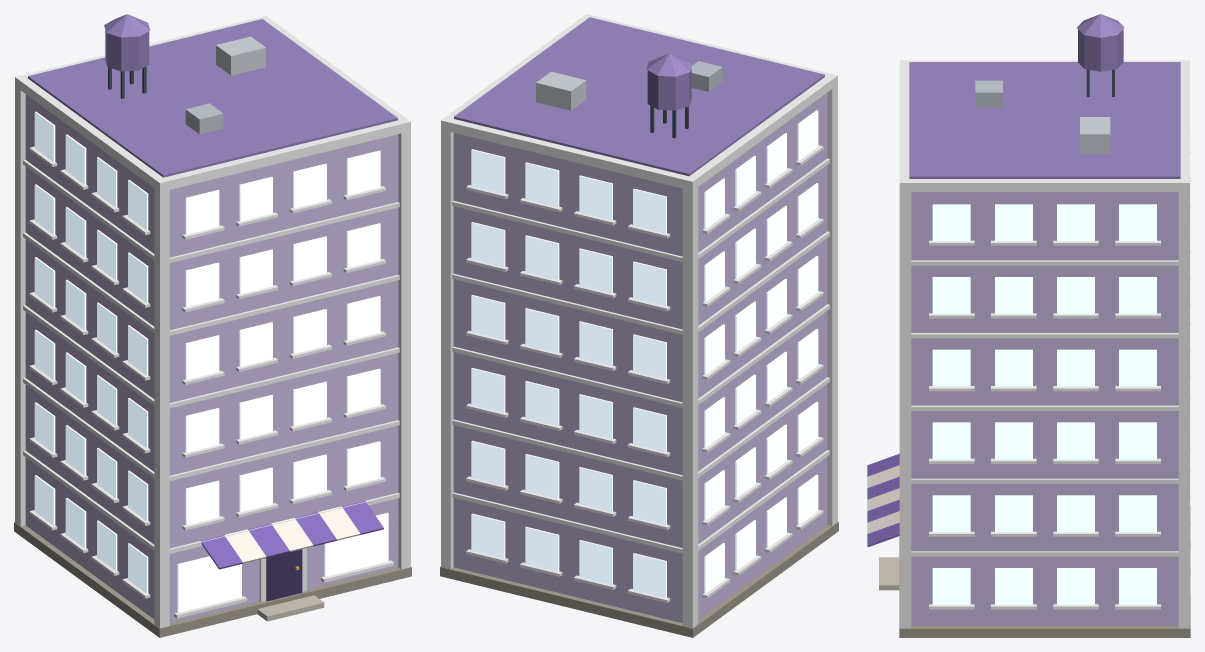
File: hotel-mirador.glb
3 views of the same model, side by side, from view 1: azimuth 30°, elevation 25°; view 2: azimuth 150°, elevation 25°; view 3: azimuth 270°, elevation 25° (orthographic).
Parts seen in each view (by area): view 1: hotel-mirador_1, hotel-mirador_3, hotel-mirador_2, hotel-mirador_9, hotel-mirador_0, hotel-mirador_7, hotel-mirador_8, hotel-mirador_4, hotel-mirador_10, hotel-mirador_6, hotel-mirador_11; view 2: hotel-mirador_1, hotel-mirador_3, hotel-mirador_2, hotel-mirador_9, hotel-mirador_0, hotel-mirador_10, hotel-mirador_11; view 3: hotel-mirador_1, hotel-mirador_3, hotel-mirador_2, hotel-mirador_9, hotel-mirador_0, hotel-mirador_7, hotel-mirador_8, hotel-mirador_10, hotel-mirador_11, hotel-mirador_6.
Part boxes in pixels (x1,y1,x2,y2): hotel-mirador_1: (25, 94, 398, 622); hotel-mirador_3: (34, 111, 388, 612); hotel-mirador_2: (15, 16, 410, 628); hotel-mirador_9: (28, 14, 397, 177); hotel-mirador_0: (14, 522, 411, 637); hotel-mirador_7: (201, 500, 383, 569); hotel-mirador_8: (224, 506, 360, 563); hotel-mirador_4: (266, 549, 302, 601); hotel-mirador_10: (216, 36, 265, 75); hotel-mirador_6: (257, 595, 324, 621); hotel-mirador_11: (185, 103, 223, 134); hotel-mirador_1: (453, 93, 827, 622); hotel-mirador_3: (471, 110, 818, 597); hotel-mirador_2: (441, 14, 837, 628); hotel-mirador_9: (454, 17, 824, 176); hotel-mirador_0: (440, 521, 838, 637); hotel-mirador_10: (536, 71, 586, 110); hotel-mirador_11: (691, 61, 722, 91); hotel-mirador_1: (911, 192, 1178, 625); hotel-mirador_3: (932, 204, 1156, 604); hotel-mirador_2: (899, 60, 1190, 628); hotel-mirador_9: (909, 14, 1180, 178); hotel-mirador_0: (899, 506, 1190, 637); hotel-mirador_7: (867, 453, 899, 547); hotel-mirador_8: (867, 465, 899, 533); hotel-mirador_10: (1080, 117, 1110, 153); hotel-mirador_11: (975, 80, 1002, 107); hotel-mirador_6: (879, 557, 899, 590).
Bounding box in the file's own units: 11.5 × 23.25 × 12.76.
